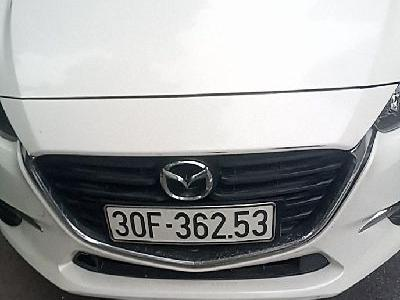number: (105, 203, 274, 245)
